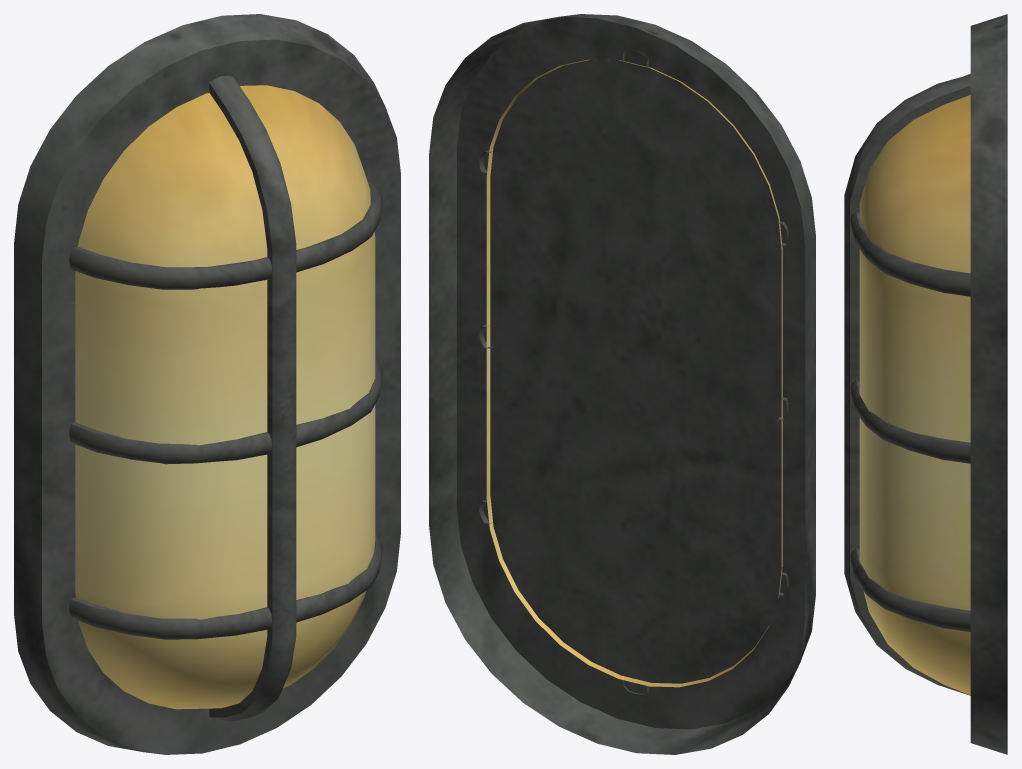
The model's file is light01.fbx.
The picture shows the model from 3 angles, left to right: view 1: azimuth 30°, elevation 25°; view 2: azimuth 150°, elevation 25°; view 3: azimuth 270°, elevation 25°; orthographic projection. The views are drawn at different scales.
Visible parts, largest first — view 1: light01; view 2: light01; view 3: light01.
Part boxes in pixels (x1,y1,x2,y2): light01: (14, 14, 400, 754); light01: (429, 14, 815, 754); light01: (844, 14, 1007, 754).
Size of the model in its own units: 31.95 by 58.9 by 12.54.
